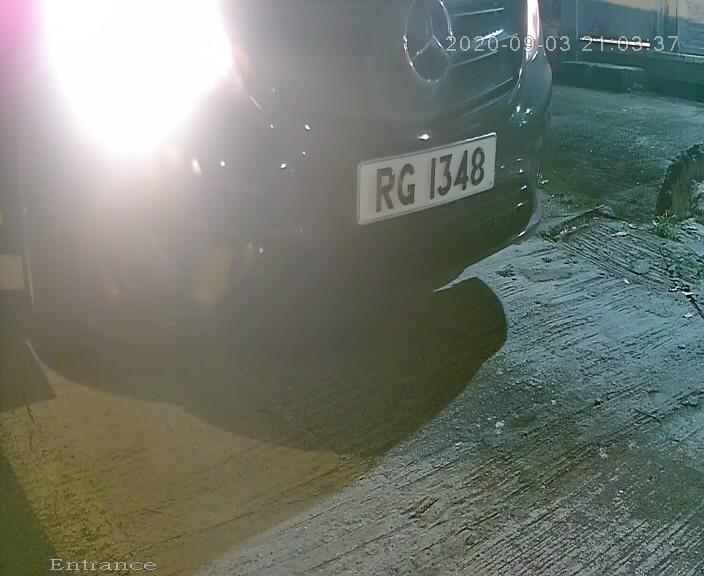License Plate: (343, 129, 500, 229)
